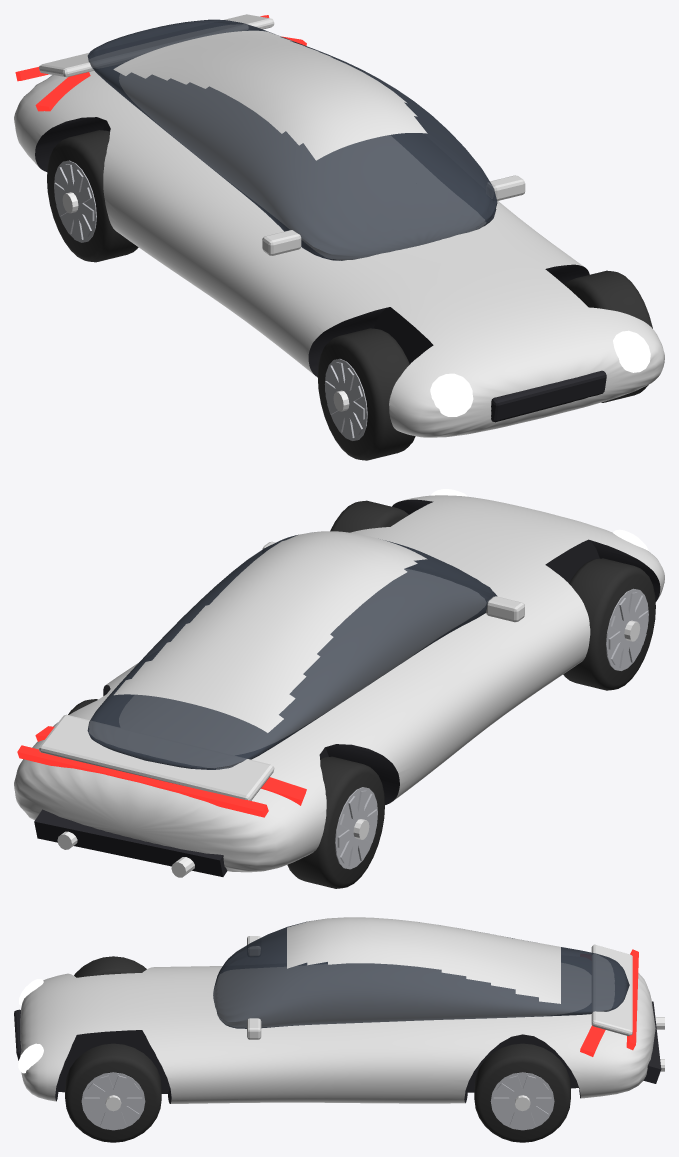
File: heritage.glb
3 renders of one model, top to bottom at view 1: azimuth 30°, elevation 25°; view 2: azimuth 150°, elevation 25°; view 3: azimuth 270°, elevation 25°, orthographic. The views are drawn at different scales.
Visible parts, largest first — view 1: Car, Wheel_FL, Wheel_RL, Wheel_FR, Rim.002, Rim; view 2: Car, Wheel_FL, Wheel_RL, Wheel_FR, Rim, Rim.002; view 3: Car, Wheel_RR, Wheel_FR, Rim.001, Rim.003, Wheel_FL, Spoke.005, Spoke.015, Spoke.017, Spoke.018, Spoke.006, Spoke.008 (+2 smaller).
Part boxes in pixels (bbox=[...]): Car: bbox=[14, 14, 664, 437]; Wheel_FL: bbox=[317, 328, 415, 460]; Wheel_RL: bbox=[47, 130, 138, 262]; Wheel_FR: bbox=[565, 270, 652, 402]; Rim.002: bbox=[54, 160, 96, 242]; Rim: bbox=[324, 359, 367, 440]; Car: bbox=[14, 489, 664, 877]; Wheel_FL: bbox=[563, 558, 655, 690]; Wheel_RL: bbox=[287, 756, 384, 888]; Wheel_FR: bbox=[330, 500, 408, 532]; Rim: bbox=[606, 588, 648, 670]; Rim.002: bbox=[335, 787, 377, 869]; Car: bbox=[14, 917, 664, 1103]; Wheel_RR: bbox=[474, 1043, 570, 1142]; Wheel_FR: bbox=[65, 1043, 161, 1142]; Rim.001: bbox=[81, 1072, 145, 1130]; Rim.003: bbox=[490, 1072, 554, 1130]; Wheel_FL: bbox=[74, 956, 146, 977]; Spoke.005: bbox=[84, 1097, 142, 1105]; Spoke.015: bbox=[493, 1097, 551, 1105]; Spoke.017: bbox=[496, 1083, 548, 1120]; Spoke.018: bbox=[496, 1083, 548, 1120]; Spoke.006: bbox=[100, 1075, 126, 1128]; Spoke.008: bbox=[87, 1083, 139, 1120].
Bounding box in the file's own units: 1.82 × 1.27 × 4.58.
